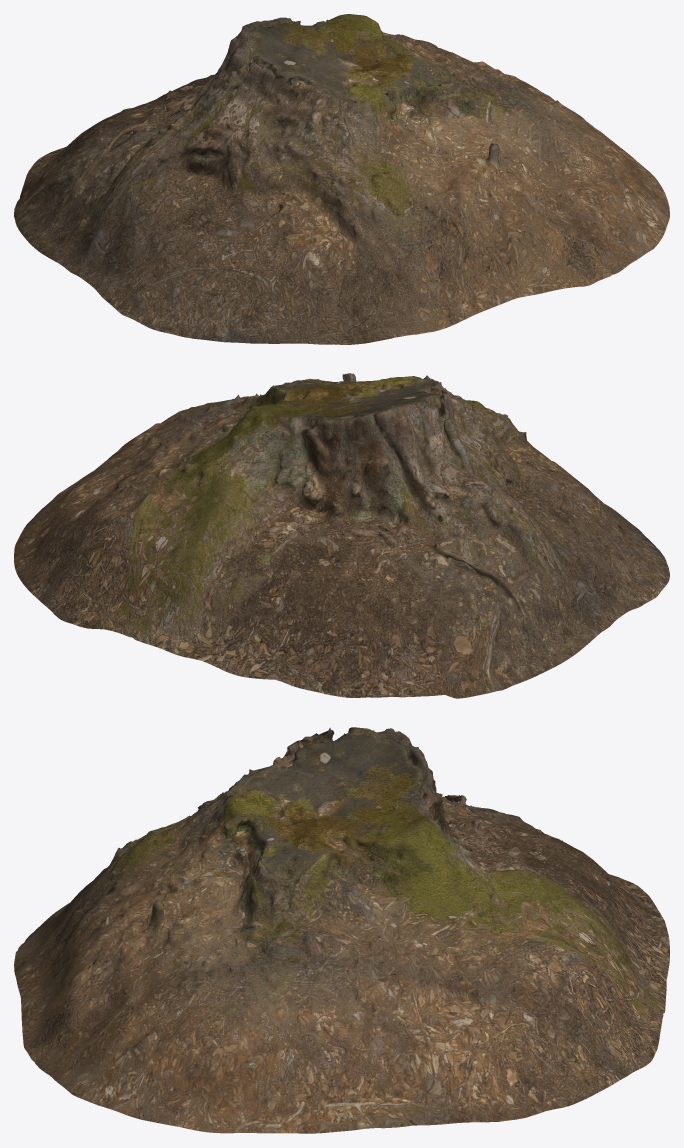
File: stump_b.glb
The picture shows the model from 3 angles, top to bottom: view 1: azimuth 30°, elevation 25°; view 2: azimuth 150°, elevation 25°; view 3: azimuth 270°, elevation 25°; orthographic projection. The views are drawn at different scales.
Parts seen in each view (by area): view 1: stump_b; view 2: stump_b; view 3: stump_b.
Boxes of the visible parts, x1=… form: stump_b: x1=14, y1=14, x2=669, y2=344; stump_b: x1=14, y1=373, x2=669, y2=698; stump_b: x1=14, y1=727, x2=669, y2=1133.
Size of the model in its own units: 7.61 by 2.61 by 6.96.
Materials: 1 (1 with a texture image).
